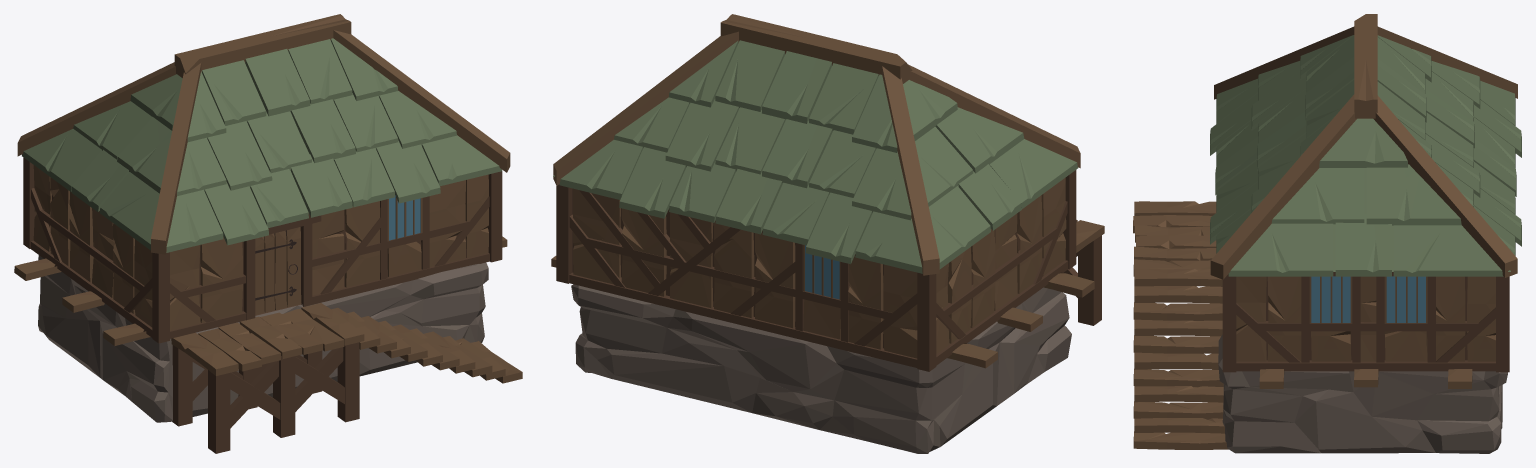
The model's file is house.glb.
3 renders of one model, left to right at view 1: azimuth 30°, elevation 25°; view 2: azimuth 150°, elevation 25°; view 3: azimuth 270°, elevation 25°, orthographic. The views are drawn at different scales.
Visible parts, largest first — view 1: house; view 2: house; view 3: house.
Part boxes in pixels (x1,y1,x2,y2): house: [14, 14, 522, 453]; house: [551, 14, 1104, 453]; house: [1133, 14, 1521, 453].
Bounding box in the file's own units: 5.76 × 4.15 × 4.62.
